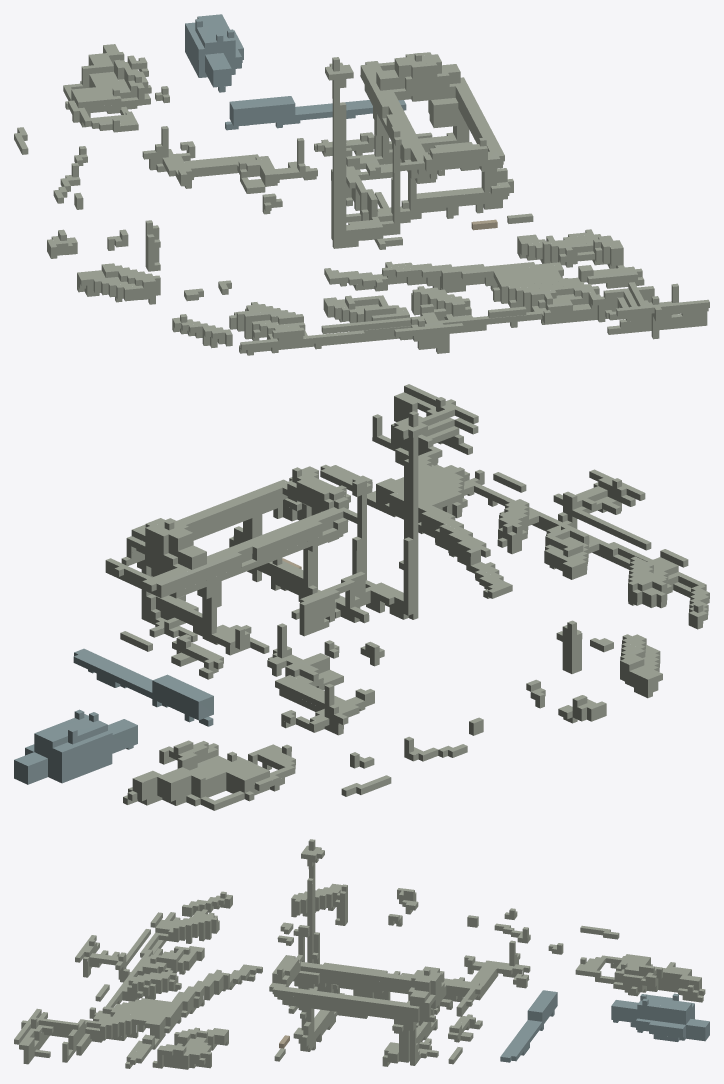
The picture shows the model from 3 angles, top to bottom: view 1: azimuth 30°, elevation 25°; view 2: azimuth 150°, elevation 25°; view 3: azimuth 270°, elevation 25°; orthographic projection. The views are drawn at different scales.
Parts seen in each view (by area): view 1: measured-industrial; view 2: measured-industrial; view 3: measured-industrial.
Part boxes in pixels (<box>): measured-industrial: <box>14,14,709,355</box>; measured-industrial: <box>14,384,709,810</box>; measured-industrial: <box>14,839,709,1069</box>.
Size of the model in its own units: 120 by 49.57 by 205.
